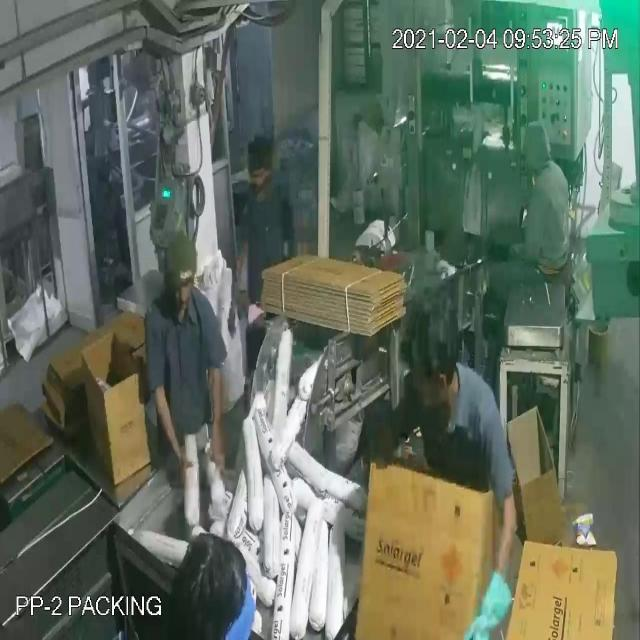No_Gloves: (22, 76, 482, 600)
